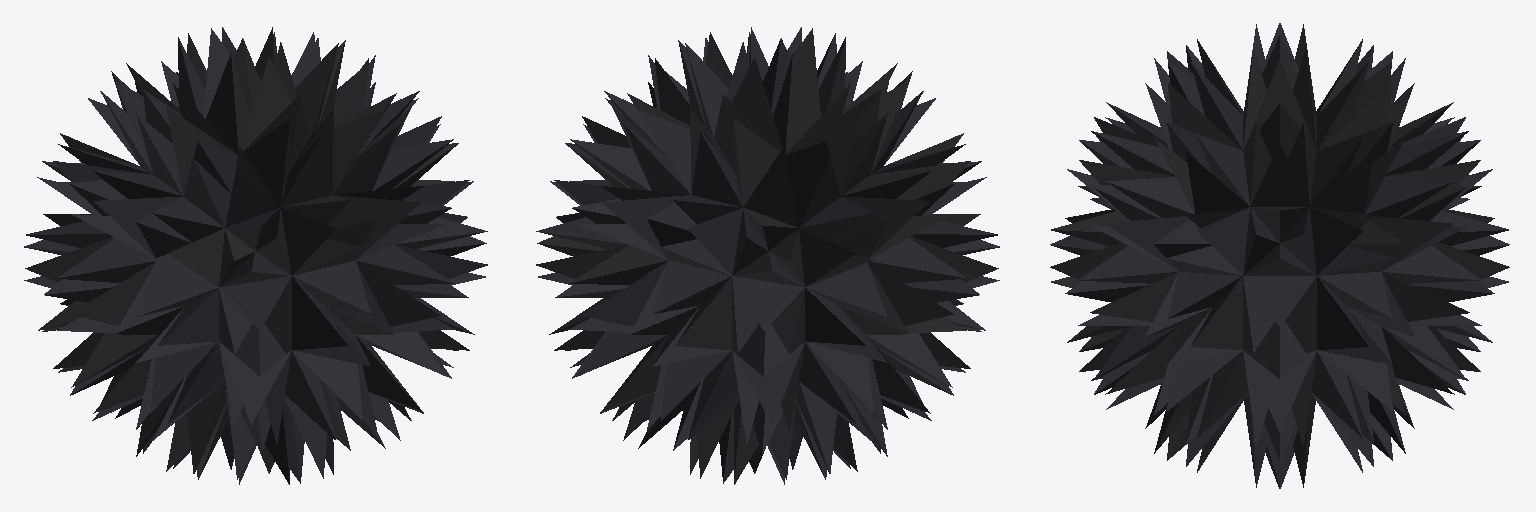
File: spikeball_2.obj
The picture shows the model from 3 angles: view 1: azimuth 30°, elevation 25°; view 2: azimuth 150°, elevation 25°; view 3: azimuth 270°, elevation 25°; orthographic projection.
Parts seen in each view (by area): view 1: Cube; view 2: Cube; view 3: Cube.
Boxes of the visible parts, x1,y1,x2,y2 form: Cube: [24, 27, 487, 484]; Cube: [536, 27, 999, 484]; Cube: [1050, 23, 1509, 488].
Bounding box in the file's own units: 5.47 × 5.47 × 5.47.